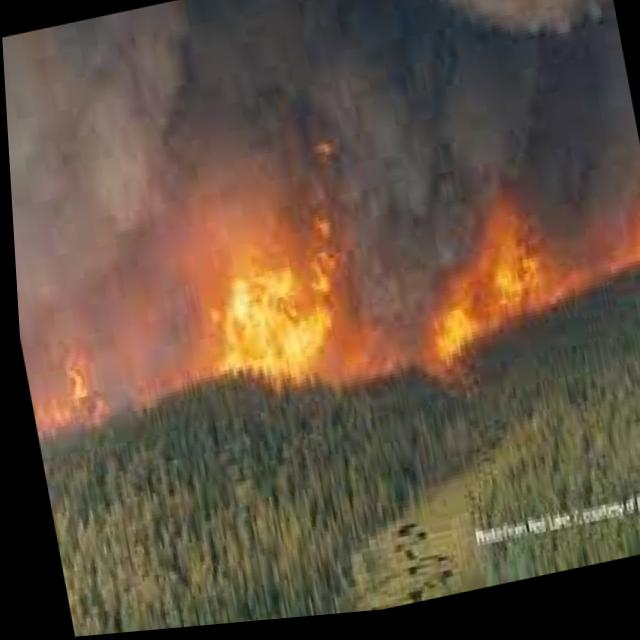Fire: (10, 172, 640, 477)
